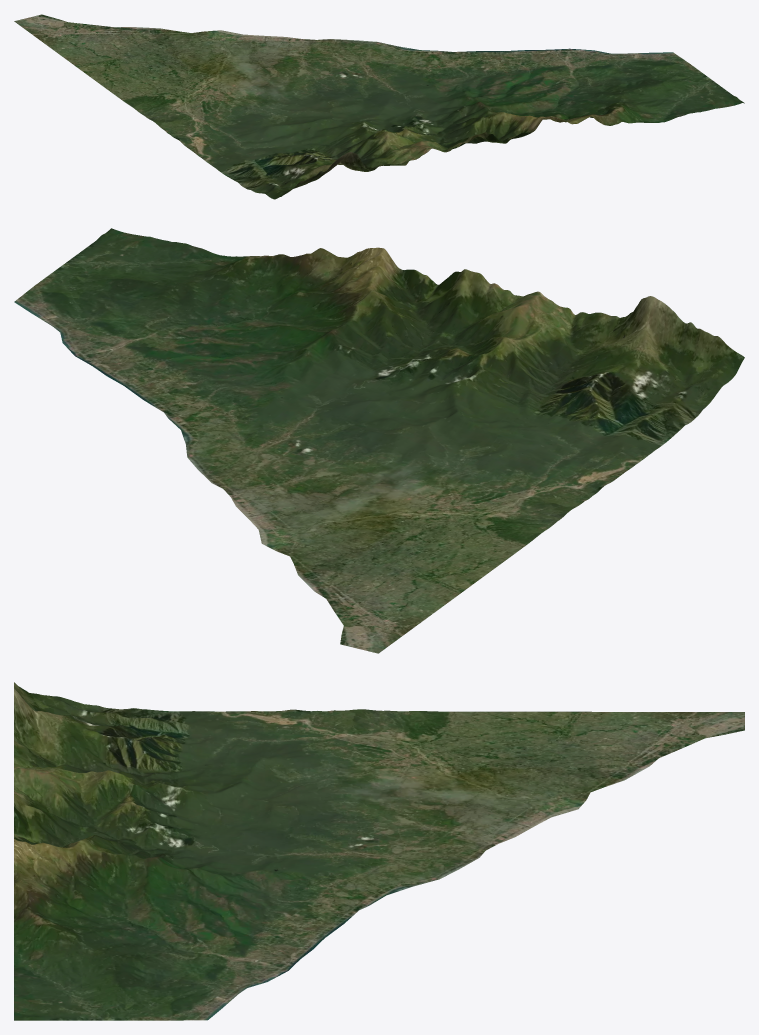
The model's file is terrain.glb.
The picture shows the model from 3 angles, top to bottom: view 1: azimuth 30°, elevation 25°; view 2: azimuth 150°, elevation 25°; view 3: azimuth 270°, elevation 25°; orthographic projection. The views are drawn at different scales.
Visible parts, largest first — view 1: Main.001; view 2: Main.001; view 3: Main.001.
Boxes of the visible parts, bbox=[...] form: Main.001: bbox=[14, 14, 744, 199]; Main.001: bbox=[14, 228, 744, 653]; Main.001: bbox=[14, 682, 744, 1020].
Bounding box in the file's own units: 10 × 1 × 10.
1 material, 1 textured.
